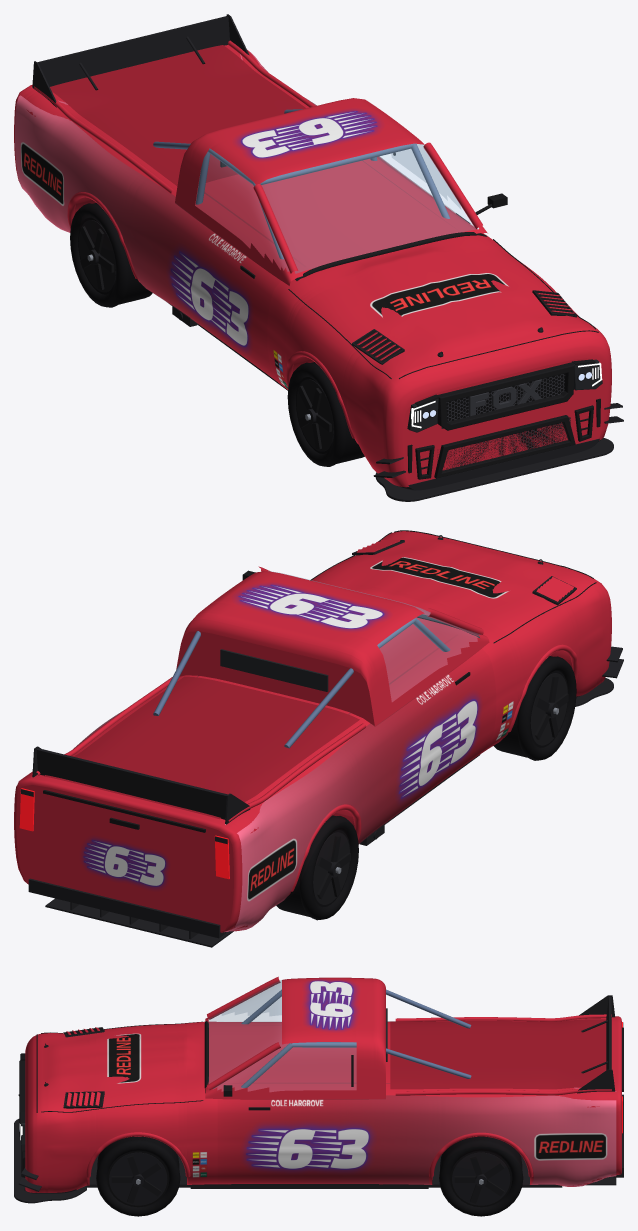
The model's file is truck_livery_1.glb.
The picture shows the model from 3 angles, top to bottom: view 1: azimuth 30°, elevation 25°; view 2: azimuth 150°, elevation 25°; view 3: azimuth 270°, elevation 25°; orthographic projection. The views are drawn at different scales.
Visible parts, largest first — view 1: Body, Cab, FOX_Race_Truck, BedFloor, SpoilerBlade, Wheel_RR, Wheel_FR, RaceNumber_doorR, RaceNumber_roof, GrilleSurround, Splitter, LowerIntakeSurround (+7 smaller); view 2: Body, Cab, FOX_Race_Truck, BedFloor, Wheel_FR, Wheel_RR, SpoilerBlade, RaceNumber_doorR, RaceNumber_roof, RaceNumber_tail, RearBumper, RearWindow (+5 smaller); view 3: Body, FOX_Race_Truck, Cab, BedFloor, RaceNumber_doorL, Wheel_FL, Wheel_RL, RaceNumber_roof, BedRail (×2), FenderLip (×2), SideSkirt, Splitter (+8 smaller).
Part boxes in pixels (x1=…): Body: x1=14, y1=45, x2=611, y2=490; Cab: x1=175, y1=98, x2=487, y2=285; FOX_Race_Truck: x1=15, y1=49, x2=508, y2=388; BedFloor: x1=50, y1=45, x2=305, y2=185; SpoilerBlade: x1=37, y1=16, x2=229, y2=86; Wheel_RR: x1=70, y1=203, x2=152, y2=307; Wheel_FR: x1=287, y1=362, x2=364, y2=466; RaceNumber_doorR: x1=168, y1=246, x2=251, y2=352; RaceNumber_roof: x1=235, y1=109, x2=380, y2=160; GrilleSurround: x1=437, y1=362, x2=574, y2=430; Splitter: x1=375, y1=438, x2=613, y2=501; LowerIntakeSurround: x1=434, y1=415, x2=575, y2=478; Body: x1=14, y1=531, x2=611, y2=932; Cab: x1=176, y1=571, x2=489, y2=726; FOX_Race_Truck: x1=18, y1=557, x2=513, y2=932; BedFloor: x1=44, y1=676, x2=359, y2=819; Wheel_FR: x1=493, y1=656, x2=576, y2=760; Wheel_RR: x1=276, y1=815, x2=358, y2=920; SpoilerBlade: x1=36, y1=748, x2=227, y2=819; RaceNumber_doorR: x1=397, y1=694, x2=480, y2=803; RaceNumber_roof: x1=235, y1=583, x2=388, y2=631; RaceNumber_tail: x1=81, y1=837, x2=168, y2=889; RearBumper: x1=28, y1=878, x2=225, y2=938; RearWindow: x1=220, y1=649, x2=328, y2=691; Body: x1=25, y1=1016, x2=621, y2=1193; FOX_Race_Truck: x1=107, y1=1021, x2=616, y2=1186; Cab: x1=205, y1=977, x2=385, y2=1099; BedFloor: x1=390, y1=1019, x2=611, y2=1089; RaceNumber_doorL: x1=243, y1=1123, x2=374, y2=1173; Wheel_FL: x1=96, y1=1136, x2=180, y2=1216; Wheel_RL: x1=439, y1=1136, x2=523, y2=1216; RaceNumber_roof: x1=304, y1=979, x2=357, y2=1031; BedRail (×2): x1=395, y1=1014, x2=611, y2=1095; FenderLip (×2): x1=86, y1=1132, x2=533, y2=1177; SideSkirt: x1=190, y1=1184, x2=428, y2=1188; Splitter: x1=14, y1=1119, x2=86, y2=1203.
Size of the model in its own units: 2.1 by 1.67 by 5.53.
Materials: 24 (6 with a texture image).
